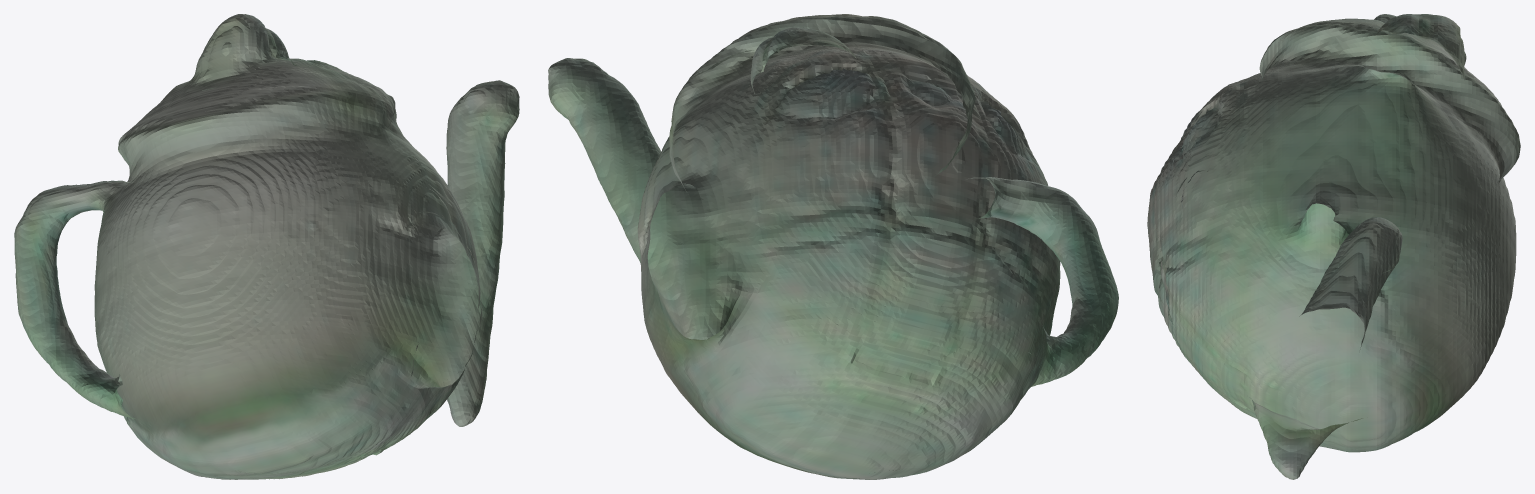
The picture shows the model from 3 angles, left to right: view 1: azimuth 30°, elevation 25°; view 2: azimuth 150°, elevation 25°; view 3: azimuth 270°, elevation 25°; orthographic projection. The views are drawn at different scales.
Parts seen in each view (by area): view 1: geometry_0; view 2: geometry_0; view 3: geometry_0.
Part boxes in pixels (x1,y1,x2,y2): geometry_0: (14,14,519,479); geometry_0: (548,14,1118,479); geometry_0: (1147,14,1520,479).
Bounding box in the file's own units: 1.6 × 1.25 × 1.03.
